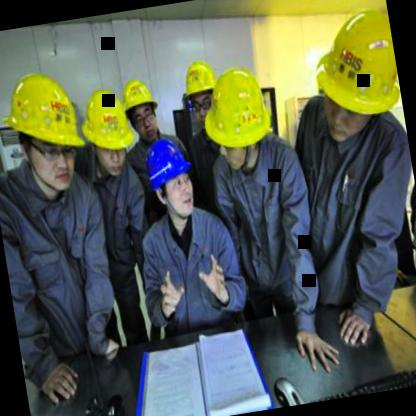helmet: (298, 3, 408, 152), (0, 66, 87, 201), (202, 64, 276, 170), (138, 128, 204, 230), (76, 81, 137, 180), (114, 66, 166, 151), (176, 48, 228, 133)
